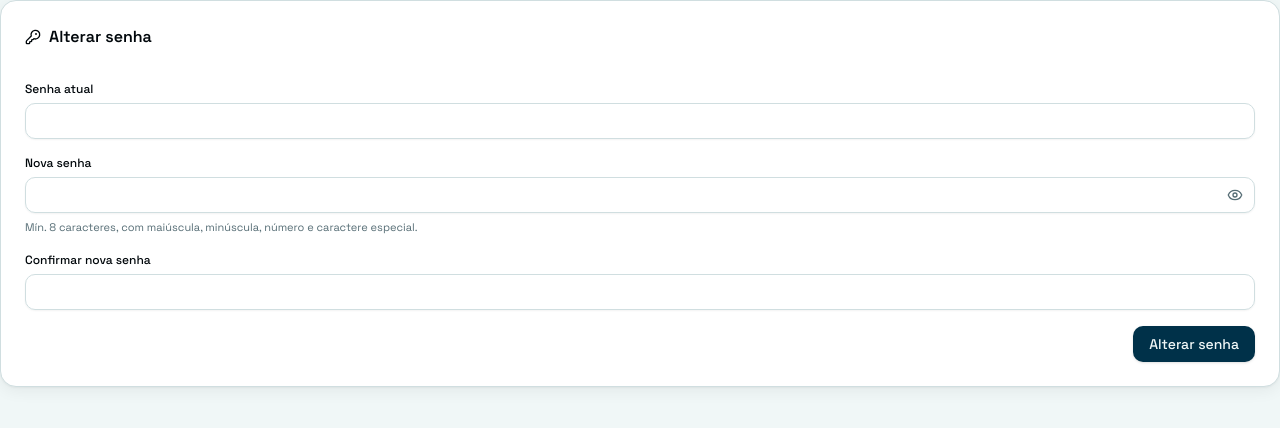
ChangePasswordCard › shows an inline error and keeps the fields when the current password is wrong
Type "Wrong@Pass1" into the password field labelled "Senha atual" at [640, 121], box [25,103,1255,139]
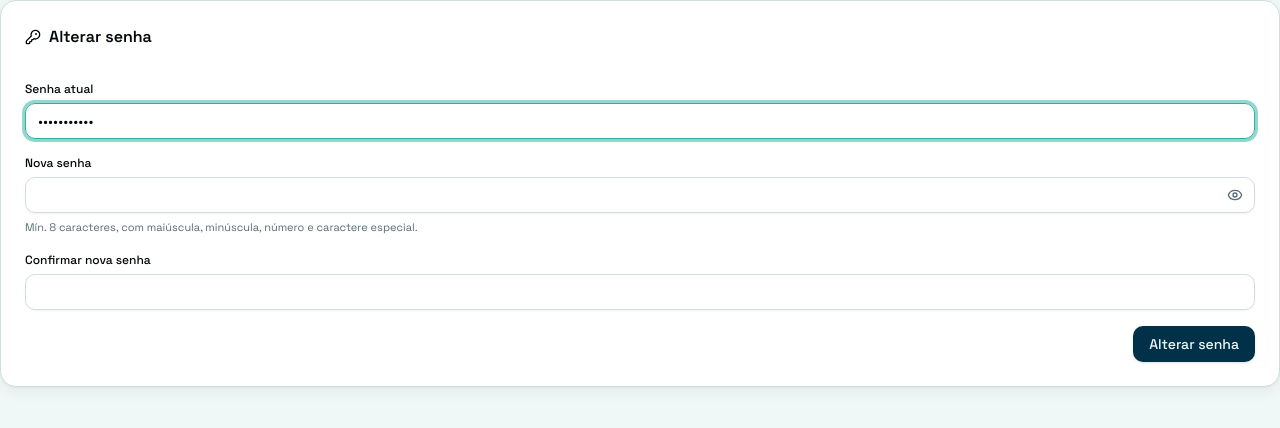
Type "N3w@Str0ngPass" into the password field labelled "Nova senha" at [640, 195], box [25,177,1255,213]
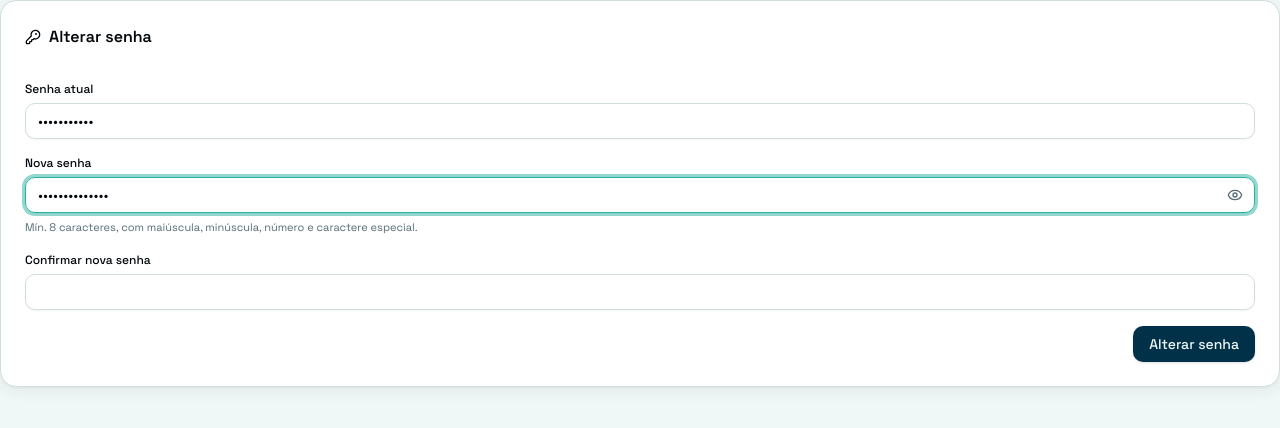
Type "N3w@Str0ngPass" into the password field labelled "Confirmar nova senha" at [640, 292], box [25,274,1255,310]
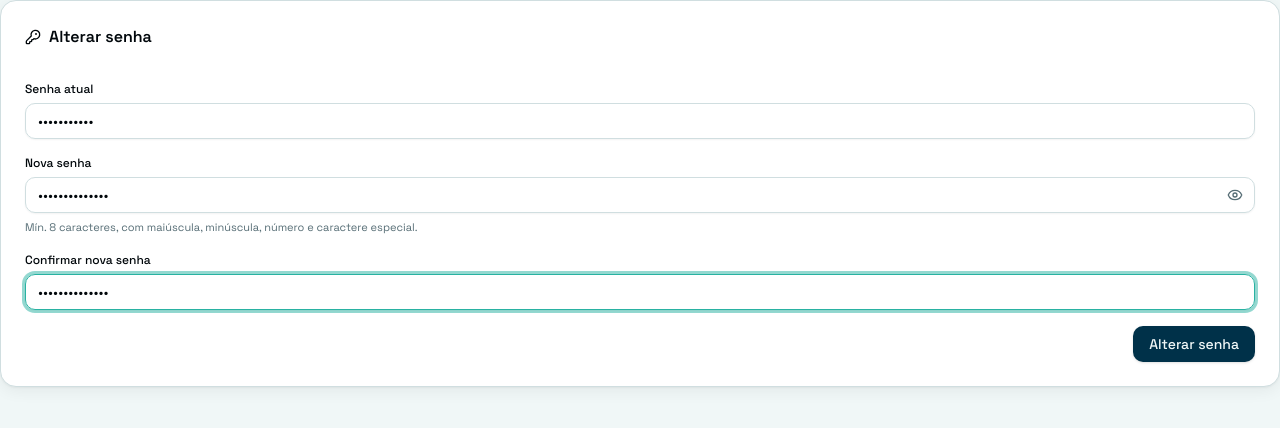
Click the button "Alterar senha" at [1194, 344], box [1133,326,1255,362]
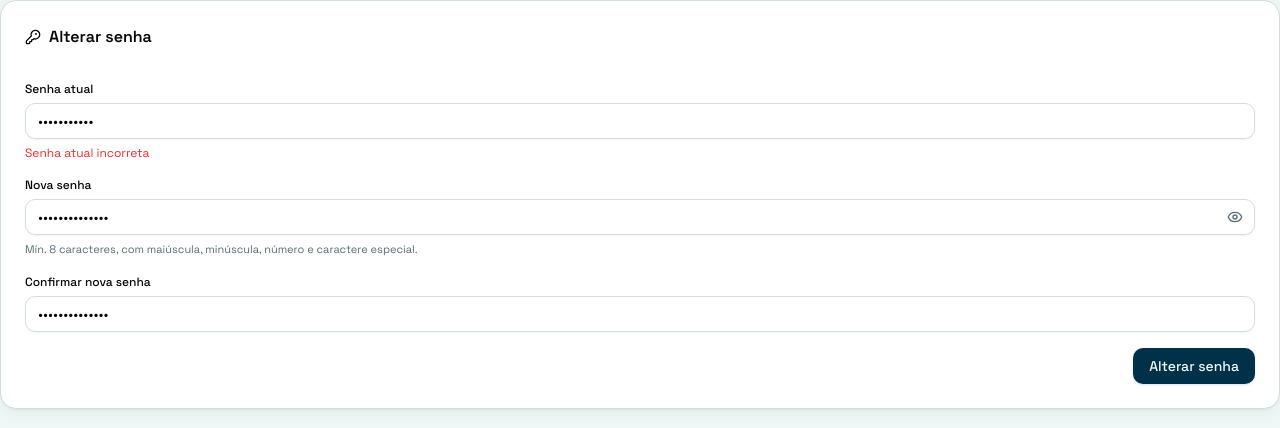
Result: the text "Senha atual incorreta" is shown at [25,145,150,161]
